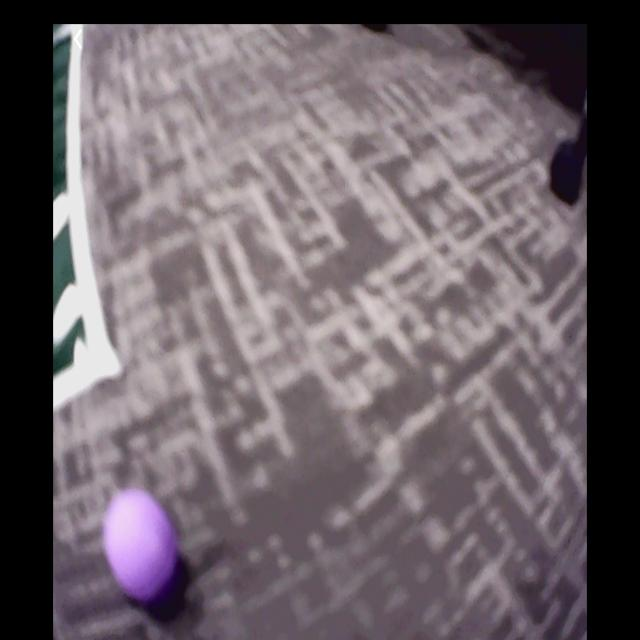ball: (104, 492, 177, 599)
